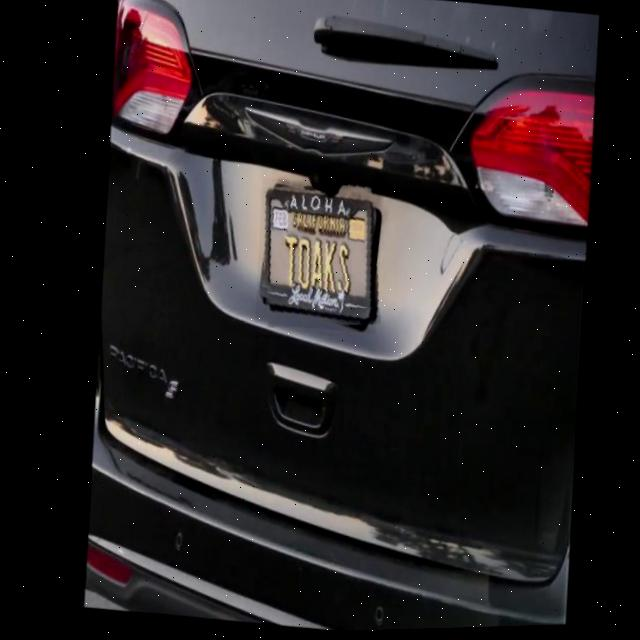LicensePlate: (242, 176, 388, 339)
